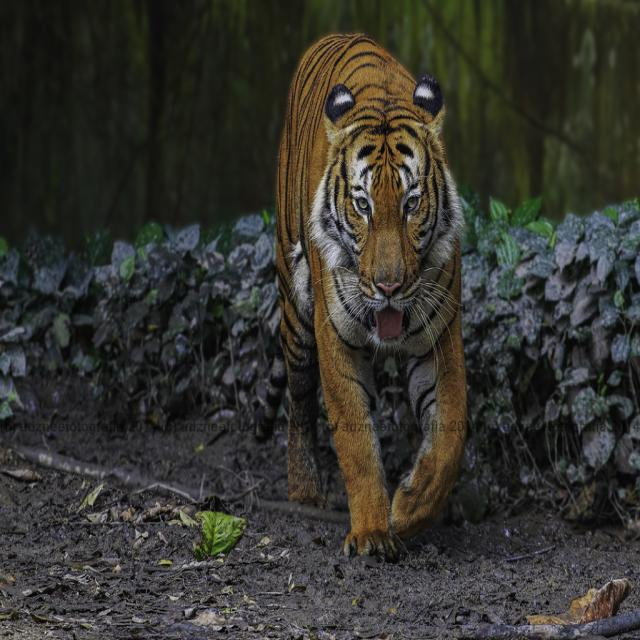Tiger: (273, 31, 466, 556)
